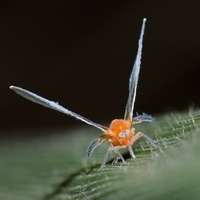insect: (9, 18, 159, 168)
